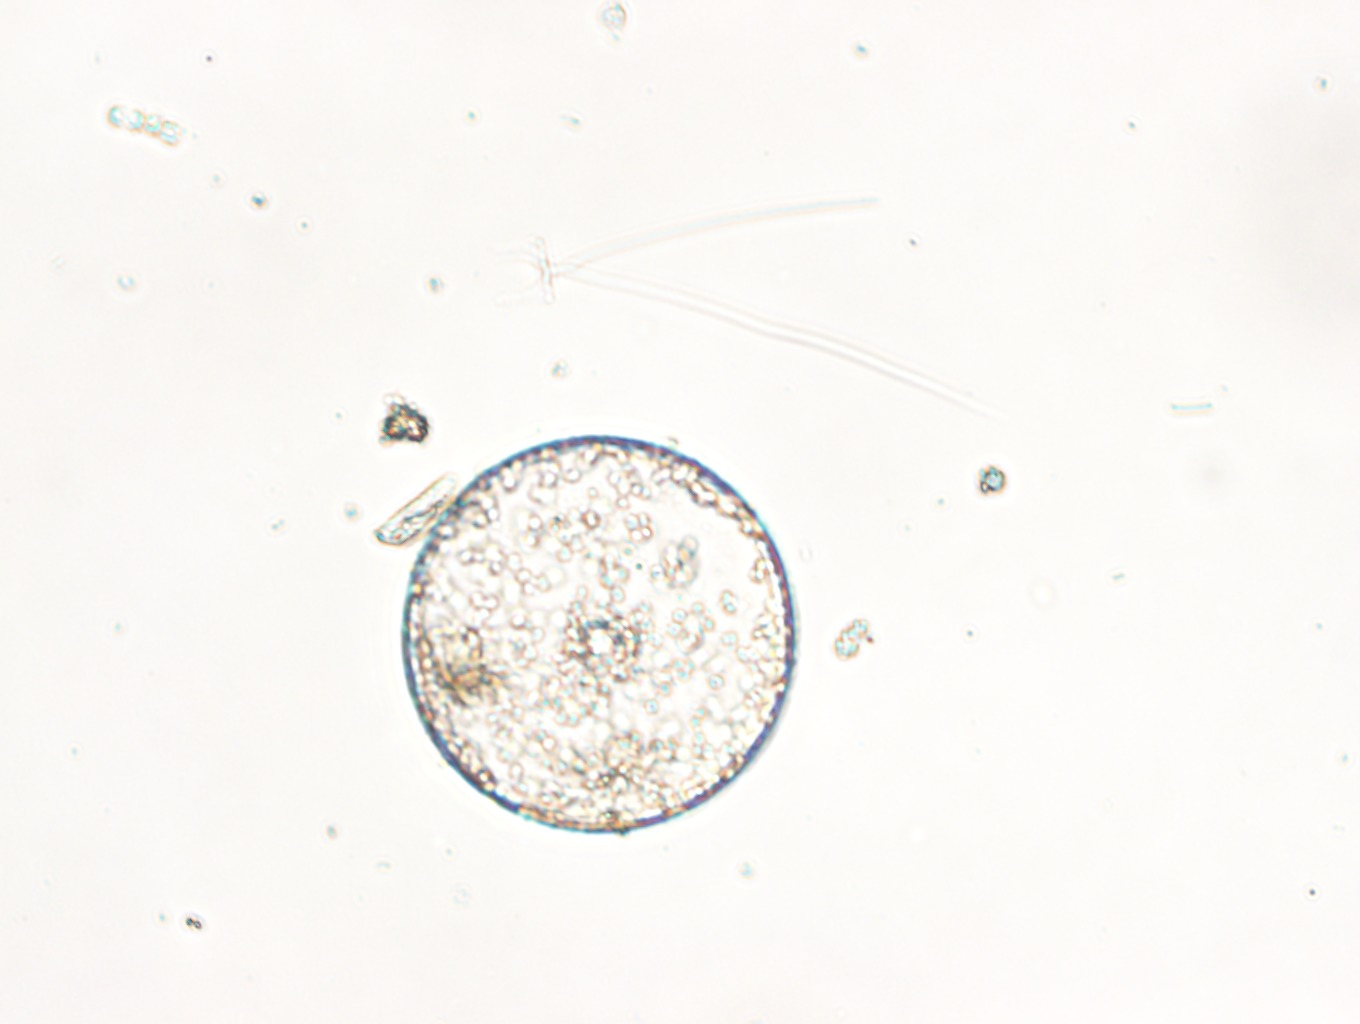coscinodiscus: (399, 433, 797, 833)
